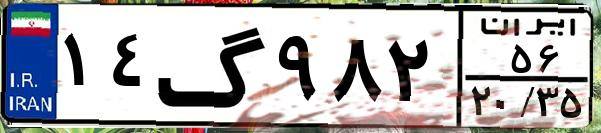0: (495, 70, 520, 125)
1: (57, 26, 110, 100)
2: (385, 28, 445, 110), (470, 70, 495, 125)
3: (535, 70, 560, 125)
4: (110, 28, 156, 98)
5: (560, 70, 590, 125), (508, 27, 537, 80)
6: (537, 27, 568, 80)
8: (330, 28, 385, 110)
9: (270, 28, 330, 110)
گ: (156, 12, 270, 120)
